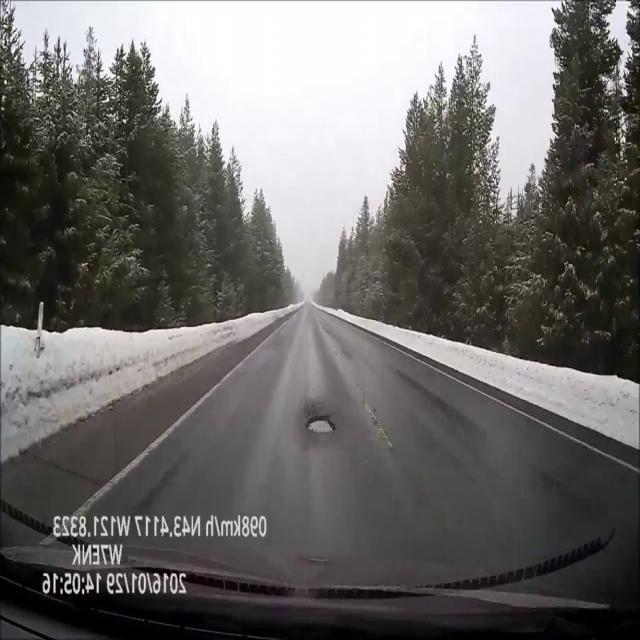pothole: (303, 414, 338, 436)
